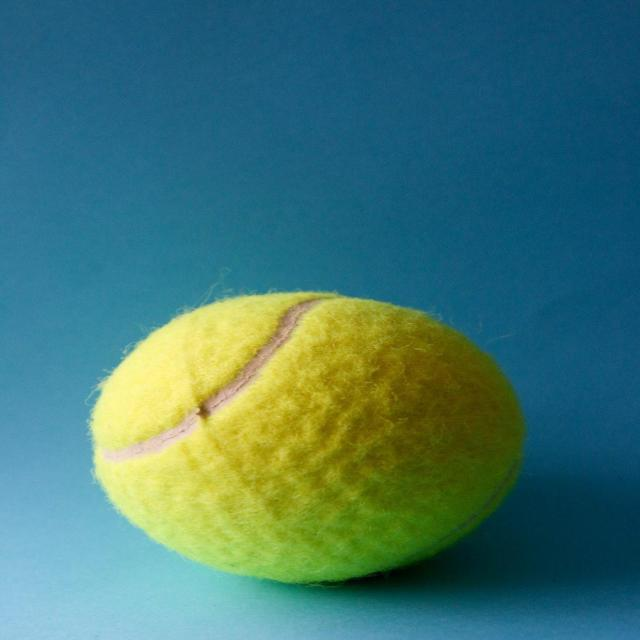ball: (80, 279, 541, 594)
